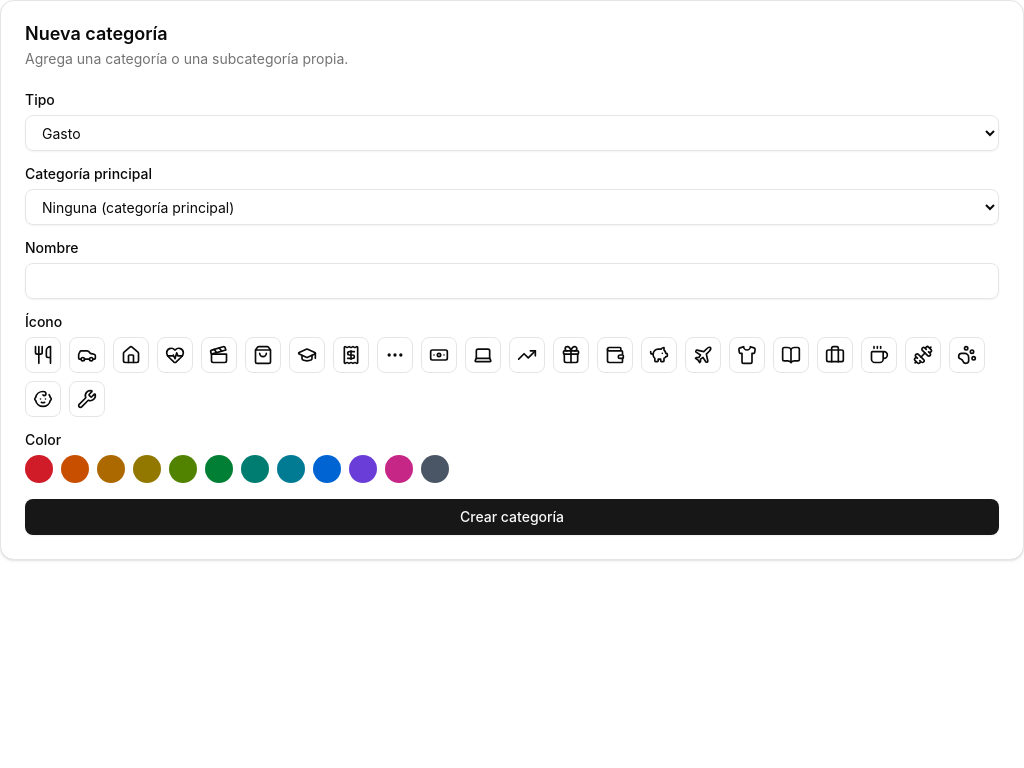
Test case: CreateCategoryContainer › shows an unexpected failure above the form
The width and height of the screenshot is (1024, 768).
Type "Café" into the field labelled "Nombre".
click(512, 281); type("Café")  # box [25,263,999,299]
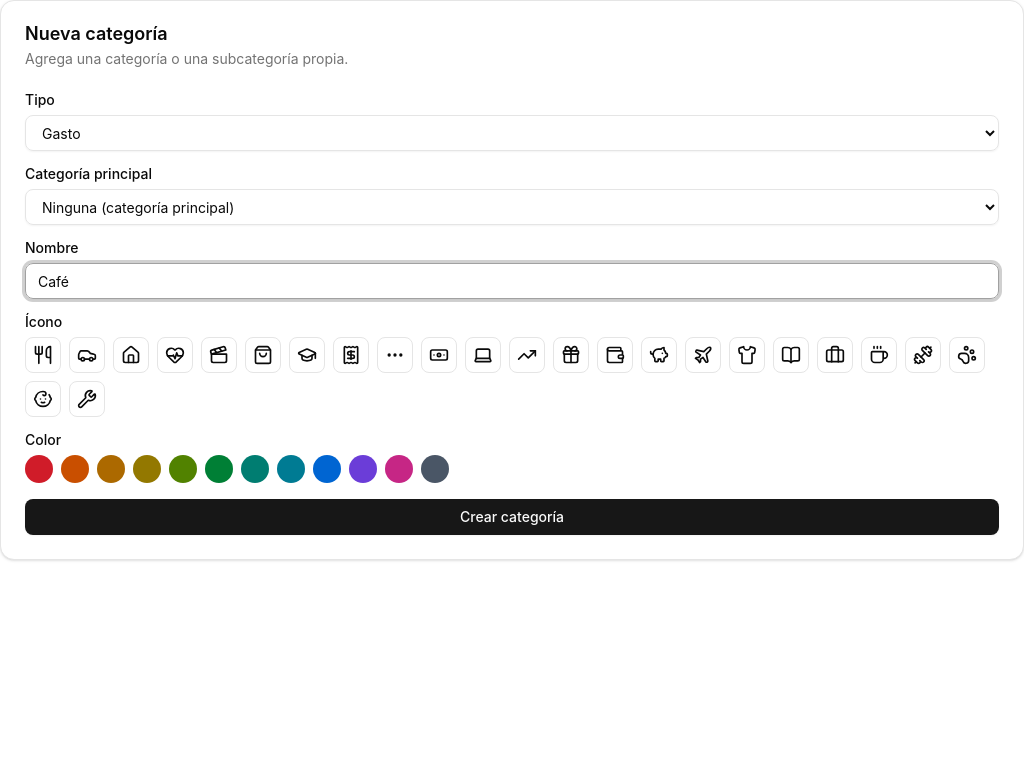
Click the radio button named "Café".
click(879, 355)  # box [861,337,897,373]
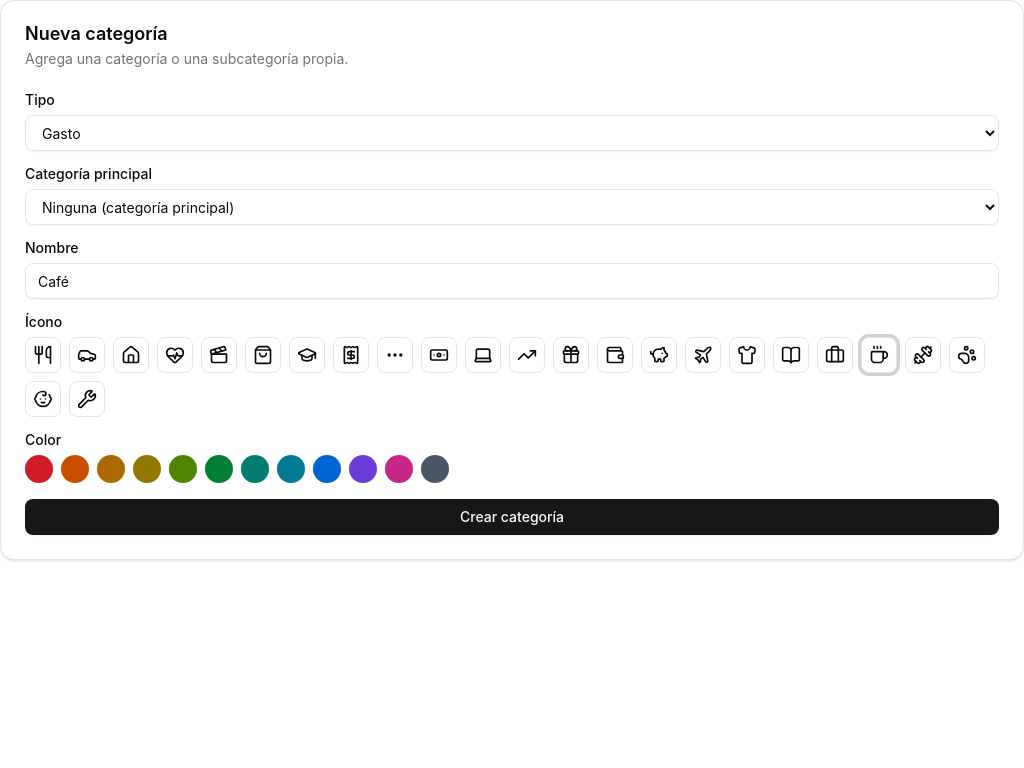
Click the radio button named "Ámbar".
click(111, 469)  # box [97,455,125,483]
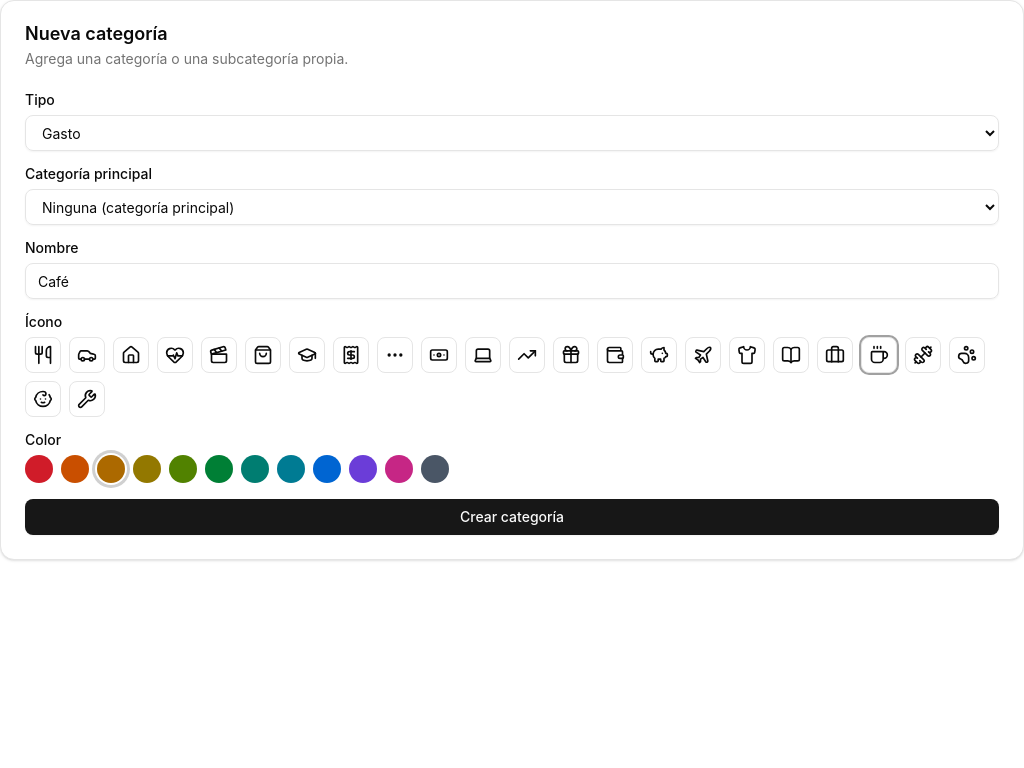
Click the button "Crear categoría".
click(512, 517)  # box [25,499,999,535]
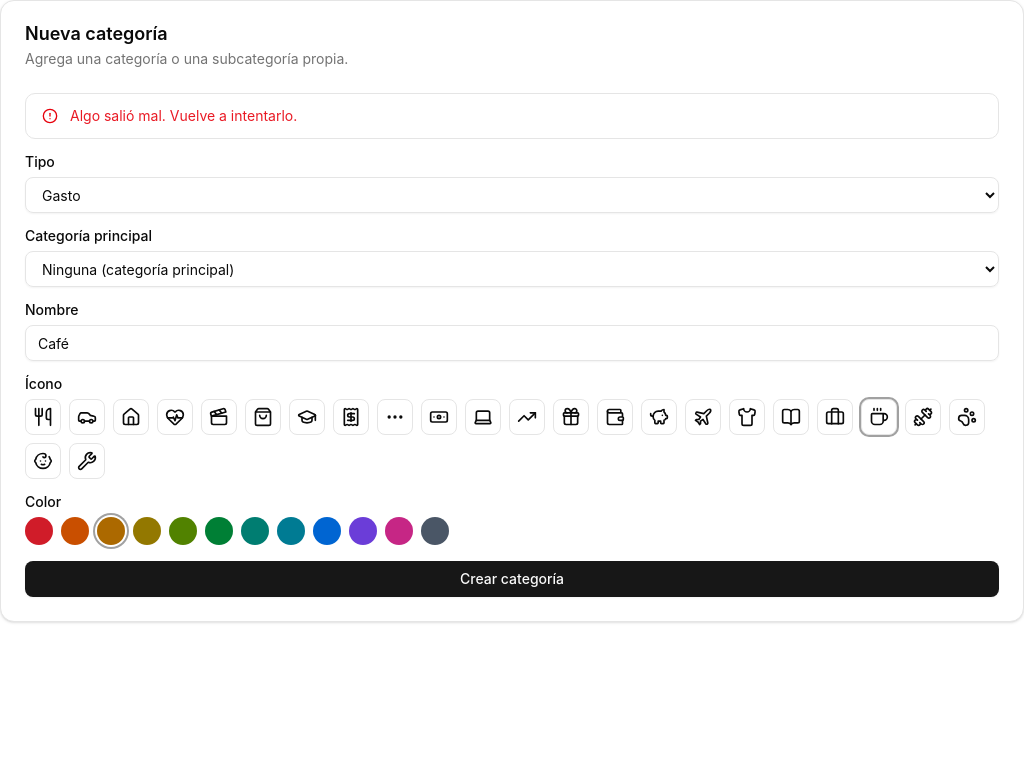
Now the text "Algo salió mal. Vuelve a intentarlo." is shown, box [70,107,297,124]
